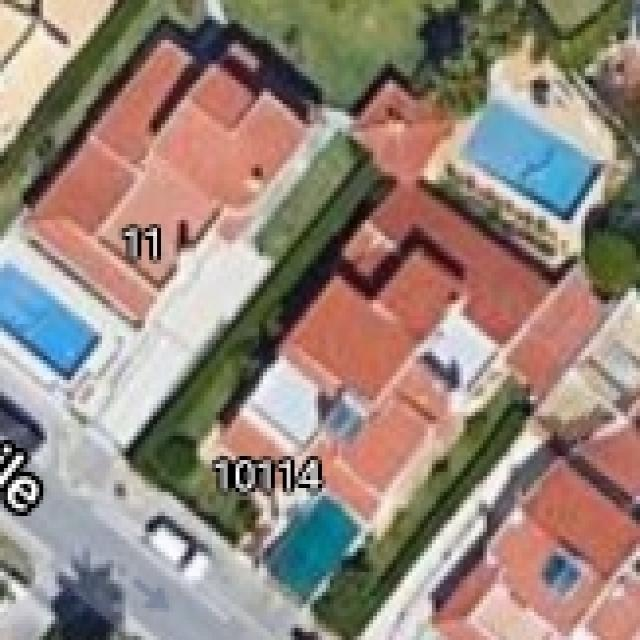pool: (448, 88, 604, 224), (0, 252, 107, 383), (257, 487, 369, 611)
